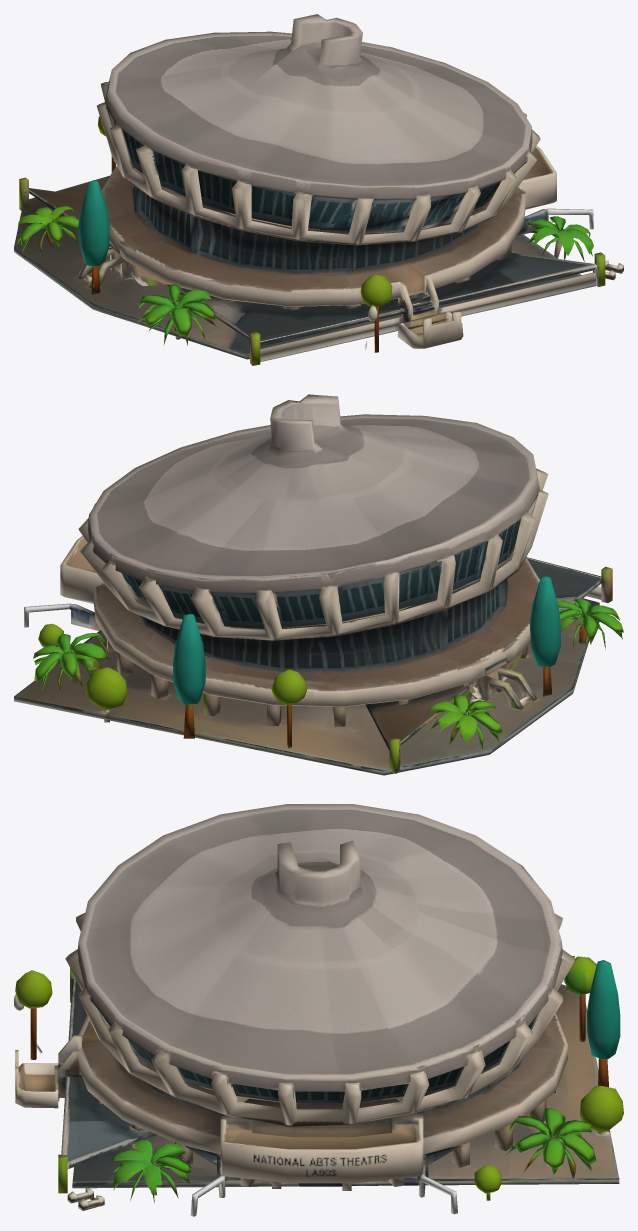
File: national+arts+theatre+3d+model.glb
3 views of the same model, one above another, from view 1: azimuth 30°, elevation 25°; view 2: azimuth 150°, elevation 25°; view 3: azimuth 270°, elevation 25° (orthographic). The views are drawn at different scales.
Parts seen in each view (by area): view 1: tripo_node_1a91a655-9415-42f8-8b84-23a455efe8ab; view 2: tripo_node_1a91a655-9415-42f8-8b84-23a455efe8ab; view 3: tripo_node_1a91a655-9415-42f8-8b84-23a455efe8ab.
Part boxes in pixels (x1,y1,x2,y2): tripo_node_1a91a655-9415-42f8-8b84-23a455efe8ab: (14, 14, 623, 365); tripo_node_1a91a655-9415-42f8-8b84-23a455efe8ab: (14, 394, 623, 775); tripo_node_1a91a655-9415-42f8-8b84-23a455efe8ab: (14, 804, 623, 1216).
Bounding box in the file's own units: 0.9941 × 0.4629 × 0.998.
1 material, 1 textured.
